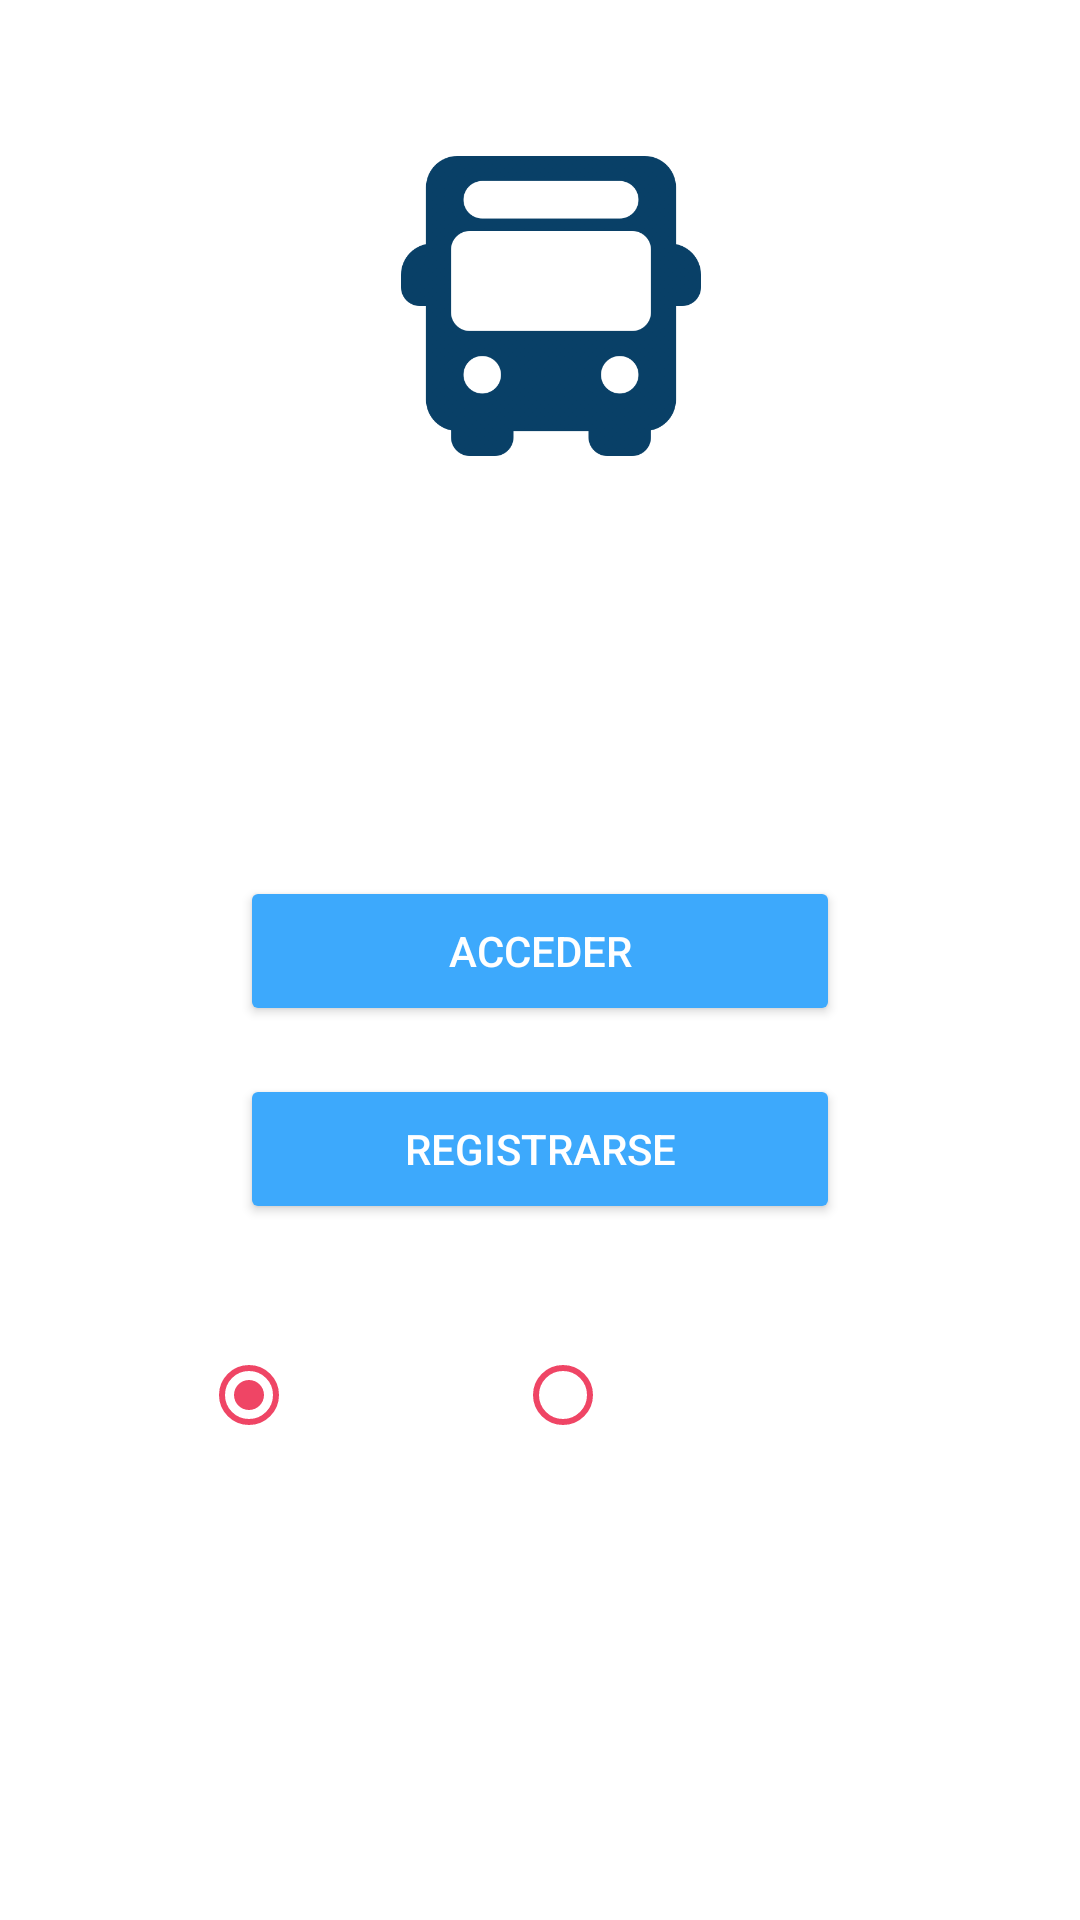

Screen size 1080 × 1920. Icon name, then its center in pixels as point (x, y):
autobus: point (551, 306)
